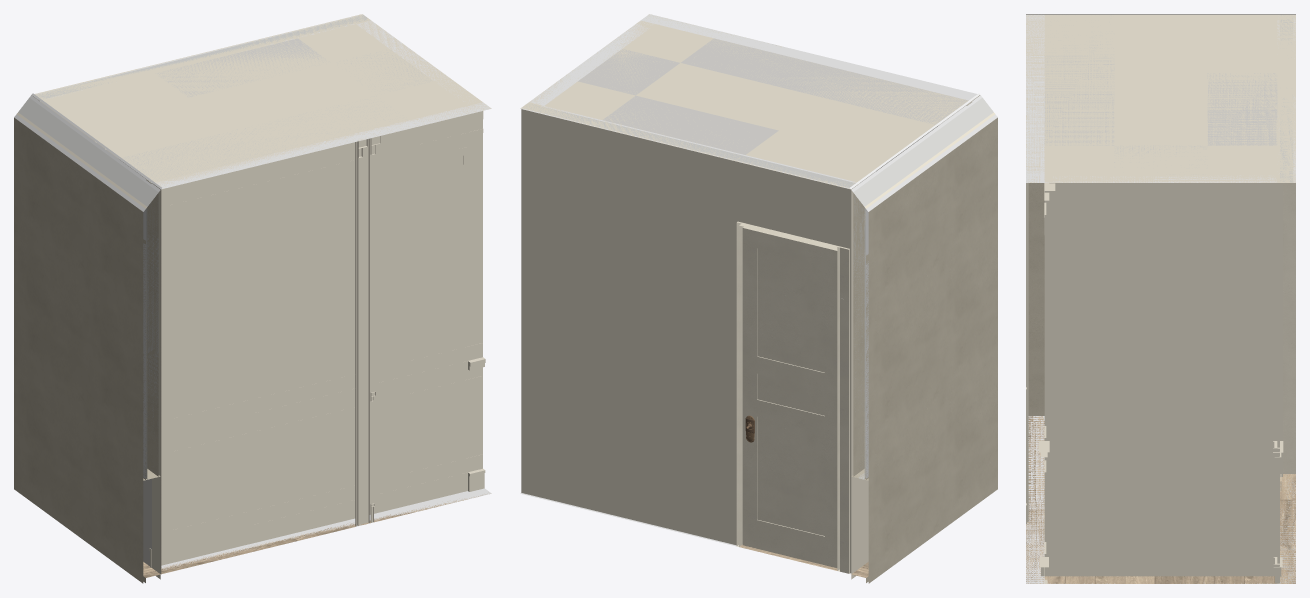
The model's file is upstairs-closet-west-8fe4f3827a35.glb.
3 renders of one model, left to right at view 1: azimuth 30°, elevation 25°; view 2: azimuth 150°, elevation 25°; view 3: azimuth 270°, elevation 25°, orthographic. The views are drawn at different scales.
Parts seen in each view (by area): view 1: upstairs-closet-west-6e269356ae8bfd70, upstairs-closet-west-9d91b47435c6fb33, upstairs-closet-west-312b4ac1be39223d, upstairs-closet-west-33ee0b466567e5f0, upstairs-closet-west-ed5fdcd3ee9c0dd5, upstairs-closet-west-39b94aca90fa4b53, upstairs-closet-west-3a4d9d62ecd7be1c, upstairs-closet-west-414385708a06acff, upstairs-closet-west-06754748489735a0, upstairs-closet-west-6a4a24524a86ae48, upstairs-closet-west-b63ee86b16afd4c0, upstairs-closet-west-1e3385c37a14aaf6 (+9 smaller); view 2: upstairs-closet-west-eb02897c2e79e2b1, upstairs-closet-west-312b4ac1be39223d, upstairs-closet-west-7406100458e293ce, upstairs-closet-west-9d91b47435c6fb33, upstairs-closet-west-33ee0b466567e5f0, upstairs-closet-west-242740a07d2af182, upstairs-closet-west-6a4a24524a86ae48, upstairs-closet-west-3a4d9d62ecd7be1c, upstairs-closet-west-39b94aca90fa4b53, upstairs-closet-west-442e5a19ed849720, upstairs-closet-west-4fe731a8ba1c3bde, upstairs-closet-west-6e269356ae8bfd70 (+3 smaller); view 3: upstairs-closet-west-af27112094daa34f, upstairs-closet-west-9d91b47435c6fb33, upstairs-closet-west-6e269356ae8bfd70, upstairs-closet-west-2575515a05775d9e, upstairs-closet-west-6a4a24524a86ae48, upstairs-closet-west-442e5a19ed849720, upstairs-closet-west-242740a07d2af182, upstairs-closet-west-7f77ce4796f35946, upstairs-closet-west-eb02897c2e79e2b1, upstairs-closet-west-ed5fdcd3ee9c0dd5, upstairs-closet-west-72fcfe59ea86eabd.
Part boxes in pixels (box(x1,y1,x2,y2)): upstairs-closet-west-6e269356ae8bfd70: box(152, 102, 491, 573); upstairs-closet-west-9d91b47435c6fb33: box(31, 14, 491, 188); upstairs-closet-west-312b4ac1be39223d: box(14, 114, 145, 480); upstairs-closet-west-33ee0b466567e5f0: box(14, 386, 160, 583); upstairs-closet-west-ed5fdcd3ee9c0dd5: box(355, 138, 369, 526); upstairs-closet-west-39b94aca90fa4b53: box(18, 98, 158, 479); upstairs-closet-west-3a4d9d62ecd7be1c: box(29, 95, 160, 476); upstairs-closet-west-414385708a06acff: box(149, 469, 478, 567); upstairs-closet-west-06754748489735a0: box(165, 160, 355, 424); upstairs-closet-west-6a4a24524a86ae48: box(155, 38, 329, 97); upstairs-closet-west-b63ee86b16afd4c0: box(165, 407, 355, 535); upstairs-closet-west-1e3385c37a14aaf6: box(249, 358, 479, 422); upstairs-closet-west-eb02897c2e79e2b1: box(520, 103, 859, 574); upstairs-closet-west-312b4ac1be39223d: box(866, 114, 997, 480); upstairs-closet-west-7406100458e293ce: box(742, 226, 837, 567); upstairs-closet-west-9d91b47435c6fb33: box(520, 14, 980, 189); upstairs-closet-west-33ee0b466567e5f0: box(851, 386, 997, 583); upstairs-closet-west-242740a07d2af182: box(681, 38, 971, 130); upstairs-closet-west-6a4a24524a86ae48: box(602, 95, 778, 154); upstairs-closet-west-3a4d9d62ecd7be1c: box(851, 95, 982, 476); upstairs-closet-west-39b94aca90fa4b53: box(853, 98, 993, 479); upstairs-closet-west-442e5a19ed849720: box(736, 221, 840, 571); upstairs-closet-west-4fe731a8ba1c3bde: box(840, 246, 849, 573); upstairs-closet-west-6e269356ae8bfd70: box(641, 14, 979, 100); upstairs-closet-west-af27112094daa34f: box(1044, 175, 1277, 583); upstairs-closet-west-9d91b47435c6fb33: box(1026, 14, 1295, 182); upstairs-closet-west-6e269356ae8bfd70: box(1026, 14, 1044, 583); upstairs-closet-west-2575515a05775d9e: box(1026, 416, 1295, 583); upstairs-closet-west-6a4a24524a86ae48: box(1207, 73, 1277, 145); upstairs-closet-west-442e5a19ed849720: box(1283, 183, 1295, 473); upstairs-closet-west-242740a07d2af182: box(1044, 21, 1114, 145); upstairs-closet-west-7f77ce4796f35946: box(1044, 215, 1277, 235); upstairs-closet-west-eb02897c2e79e2b1: box(1277, 15, 1295, 583); upstairs-closet-west-ed5fdcd3ee9c0dd5: box(1026, 183, 1028, 521); upstairs-closet-west-72fcfe59ea86eabd: box(1280, 183, 1282, 476).
Bounding box in the file's own units: 2.74 × 2.95 × 1.77.
Materials: 22 (3 with a texture image).
